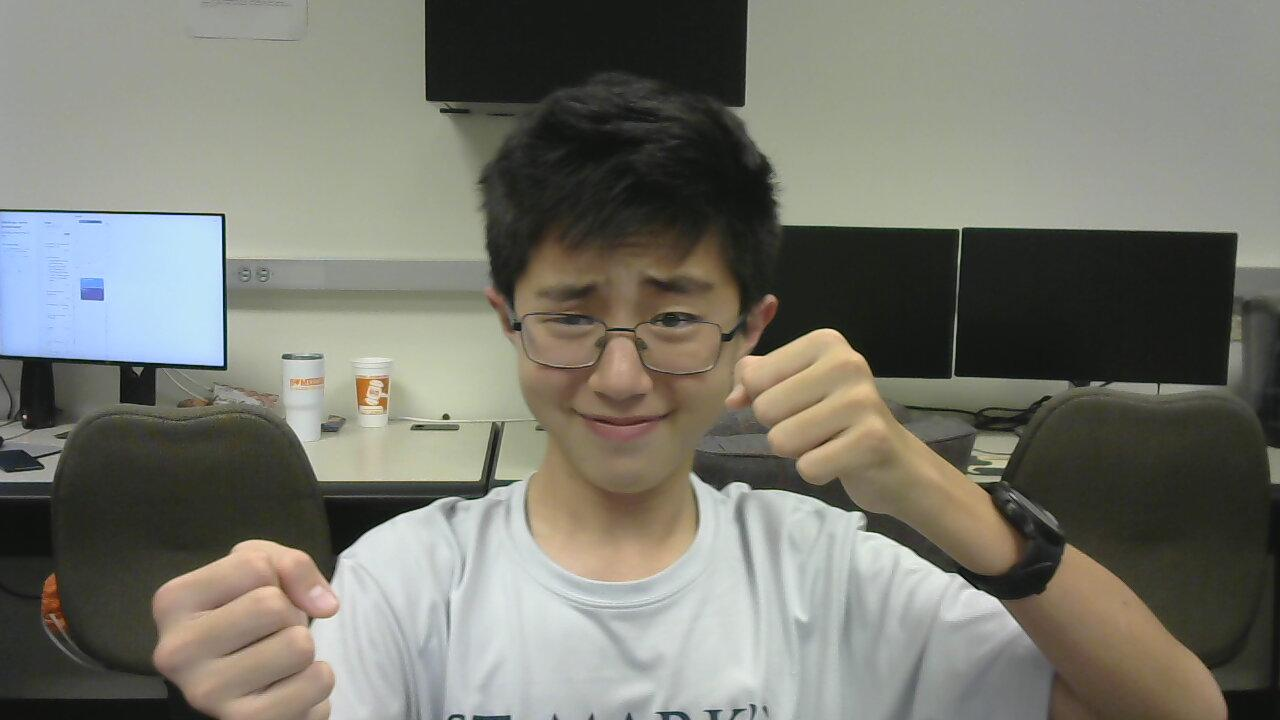fist: (131, 532, 352, 720), (733, 324, 914, 506)
